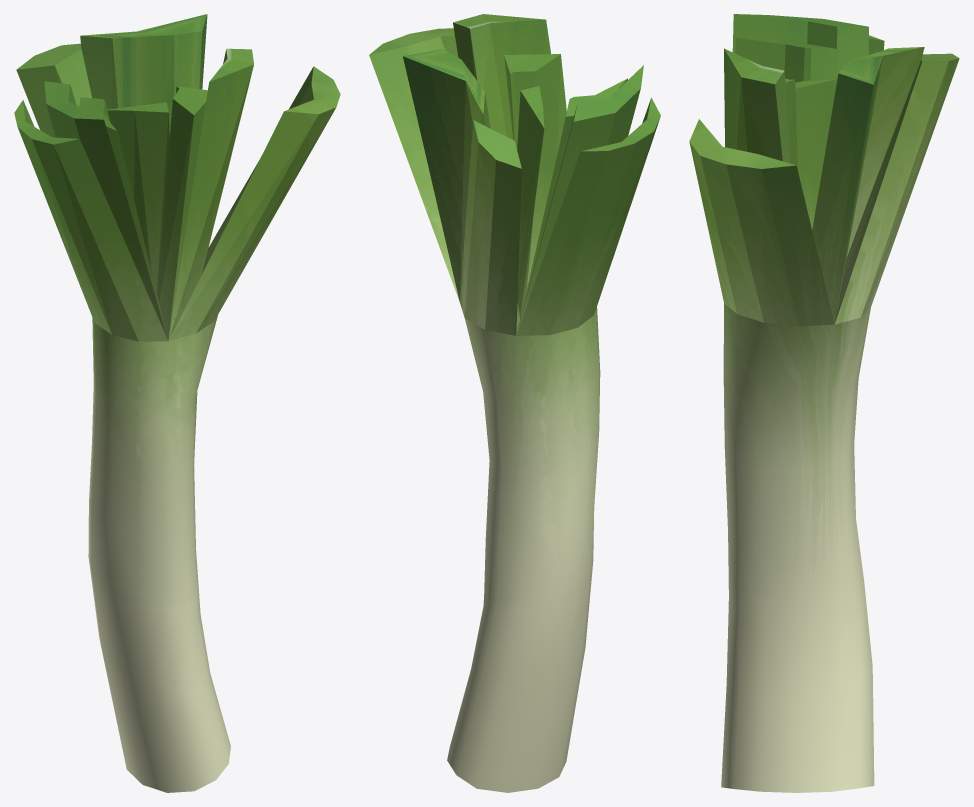
File: Puerro.FBX
The picture shows the model from 3 angles, left to right: view 1: azimuth 30°, elevation 25°; view 2: azimuth 150°, elevation 25°; view 3: azimuth 270°, elevation 25°; orthographic projection. The views are drawn at different scales.
Visible parts, largest first — view 1: Cylinder001; view 2: Cylinder001; view 3: Cylinder001.
Boxes of the visible parts, box(x1,y1,x2,y2) form: Cylinder001: box(14, 14, 340, 792); Cylinder001: box(369, 14, 660, 792); Cylinder001: box(689, 14, 959, 792).
Size of the model in its own units: 0.3848 by 0.9252 by 0.3013.
Materials: 1 (1 with a texture image).
